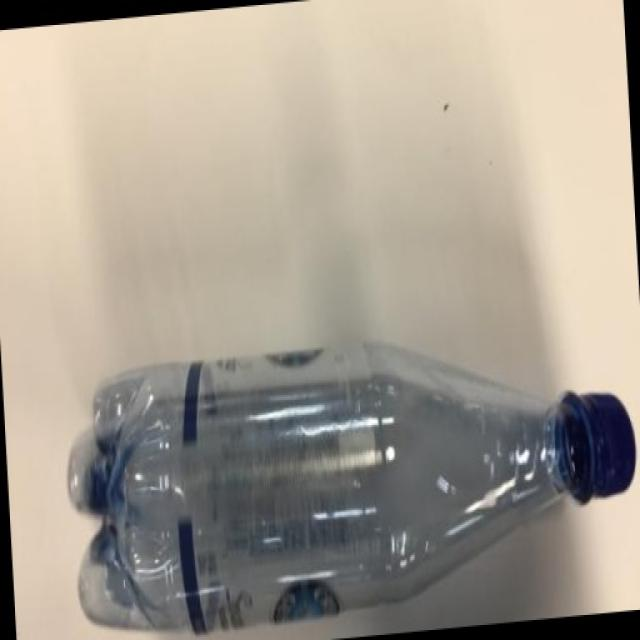plastico: (58, 341, 640, 638)
